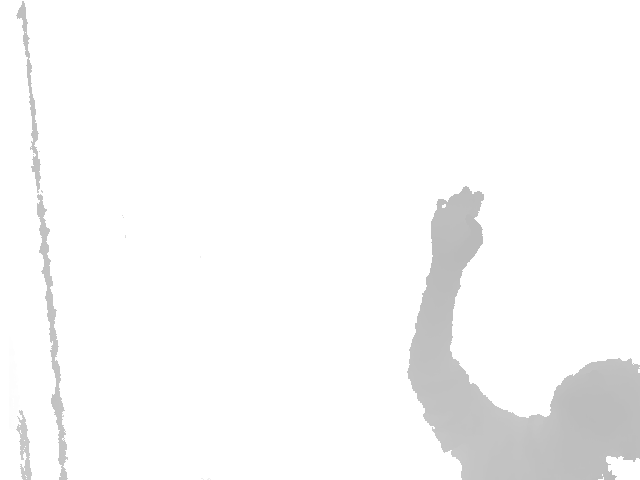hand: (430, 185, 484, 269)
head: (549, 359, 640, 461)
person: (407, 185, 640, 480)
